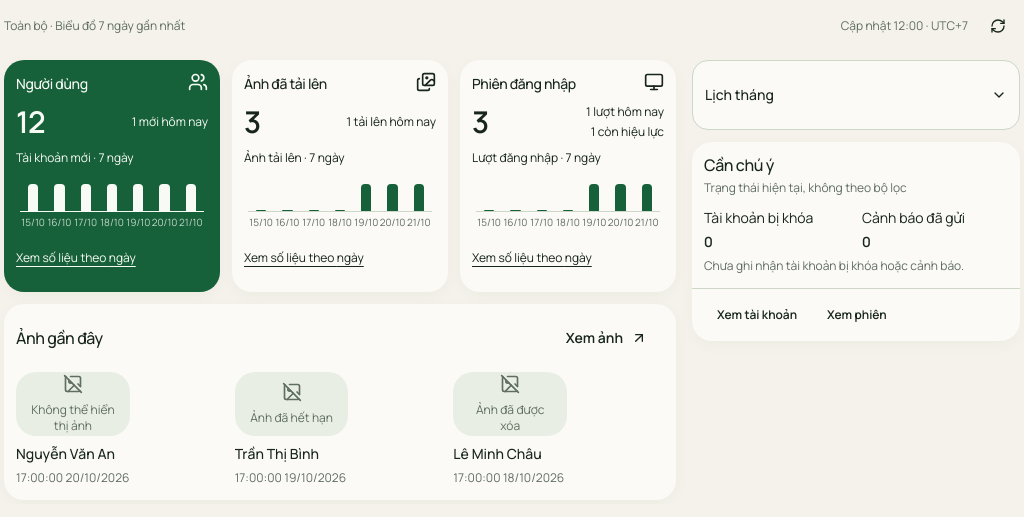
actionable admin overview › shows today and attention with fixed seven-day charts and no period selector
The width and height of the screenshot is (1024, 517).
Expected: the text "1 mới hôm nay" is shown, [132,114,208,130]
Expected: the text "1 tải lên hôm nay" is shown, [346,114,436,130]
Click the button "Xem tài khoản". click: (757, 315)
box: [704,293,810,337]
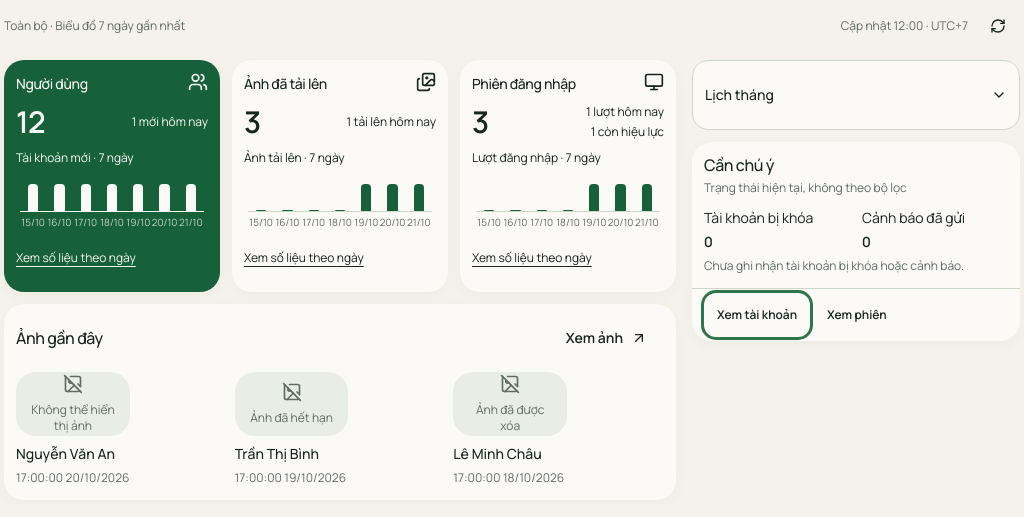
Click the button "Xem phiên". click: (857, 315)
box: [814,293,900,337]
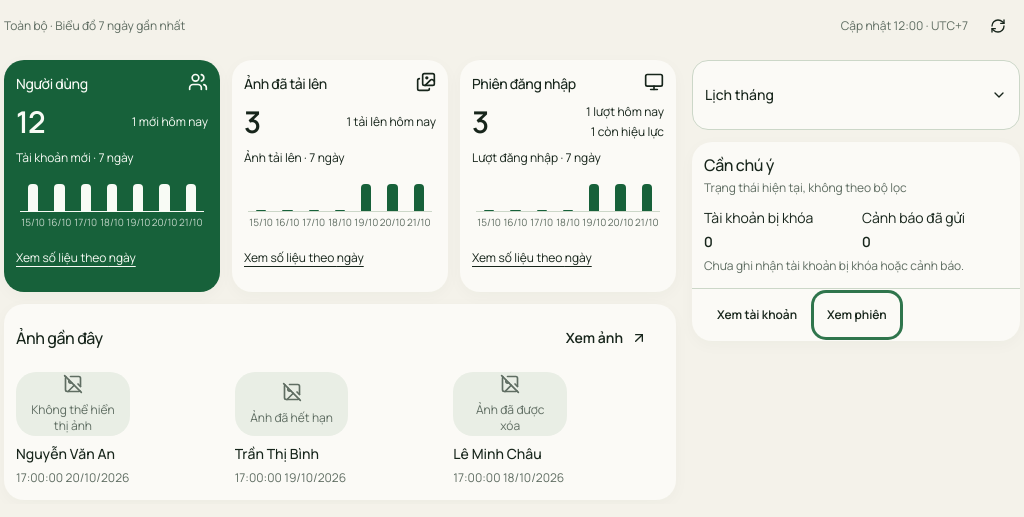
Click the button named "Làm mới số liệu minh họa". click: (998, 26)
box: [976,4,1020,48]
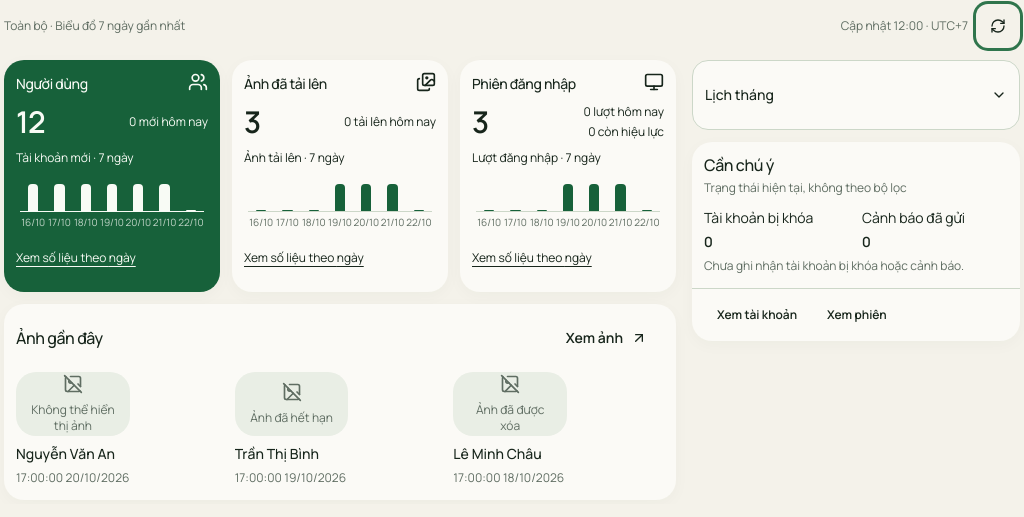
Expected: the text "0 lượt hôm nay" is shown, [584,104,664,120]
Expected: the text "0 còn hiệu lực" is shown, [584,124,664,140]
